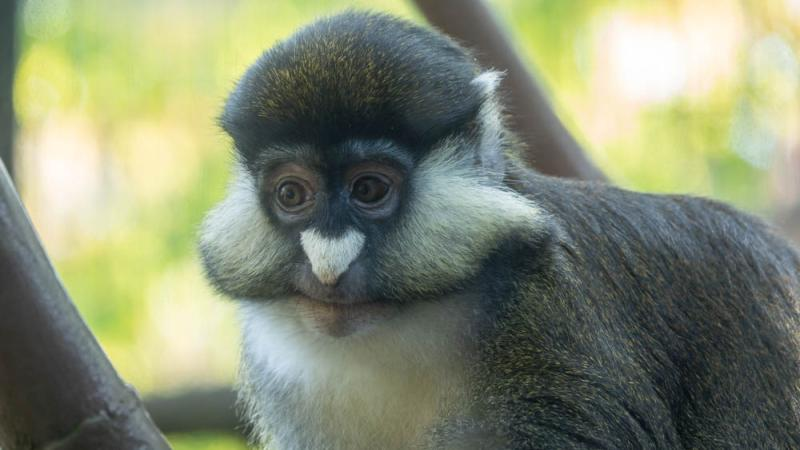monkey_body: (272, 181, 772, 450)
monkey_face: (207, 30, 478, 319)
